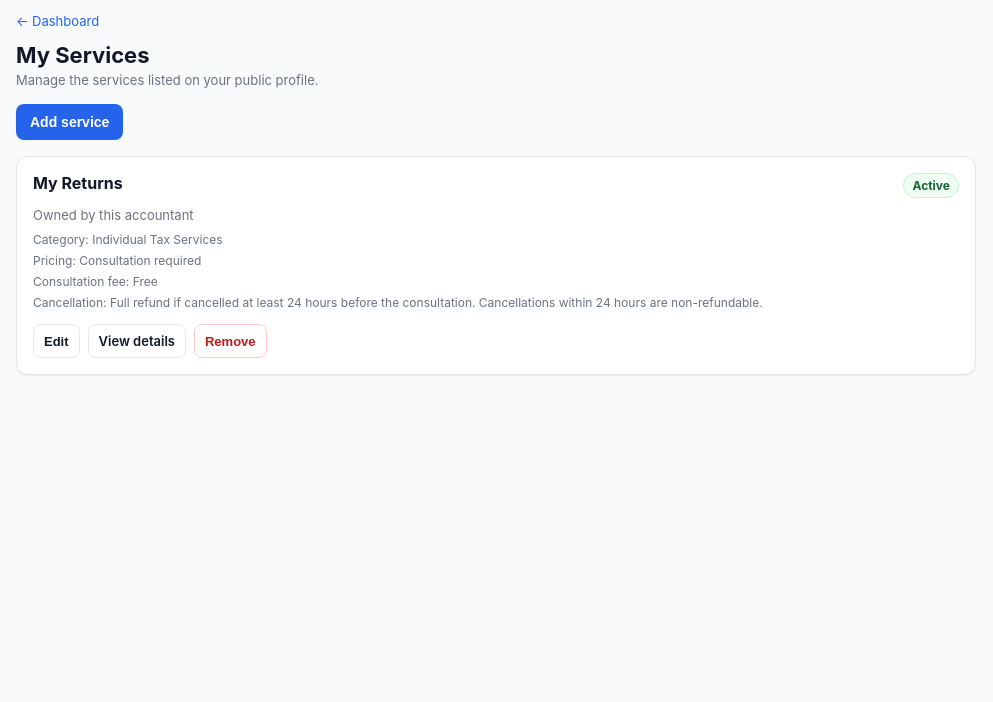
it: edit form preserves an existing valid category and sends category_id
This screenshot has width=993, height=702.
Expected: the text "My Returns" is shown, [33,173,123,198]
Click the button "Edit" at (56, 341), box [33,324,80,358]
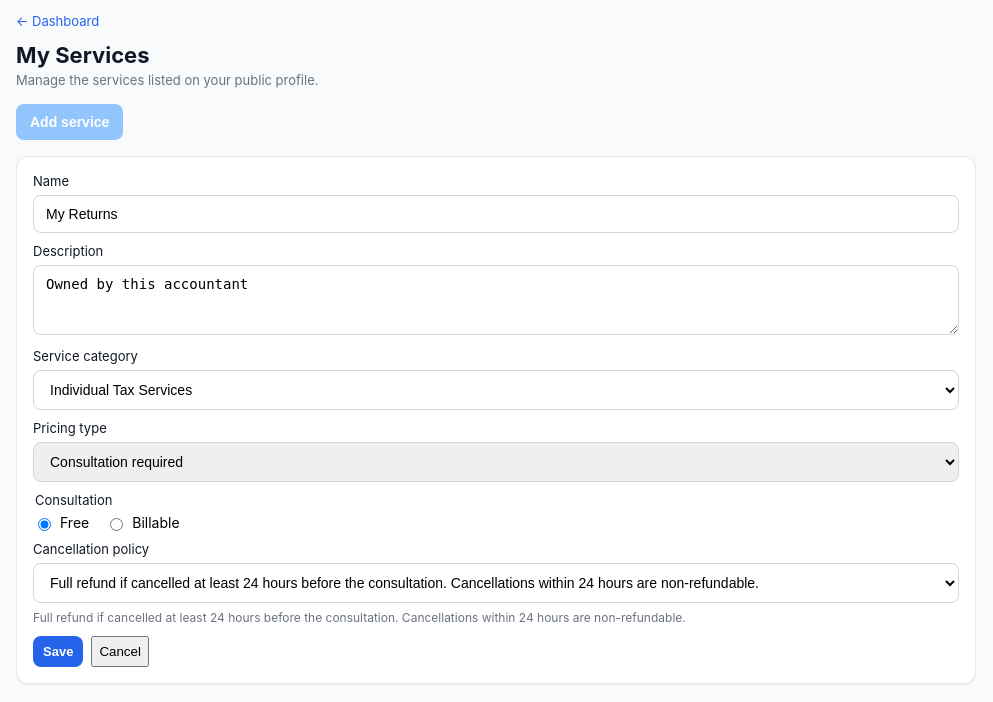
Now the dropdown labelled "Service category" is enabled, box [33,370,959,410]
Now the dropdown labelled "Service category" shows "Individual Tax Services", box [33,370,959,410]
Replace the text in the field showing "My Returns" with "Updated Returns" at (496, 214), box [33,195,959,233]
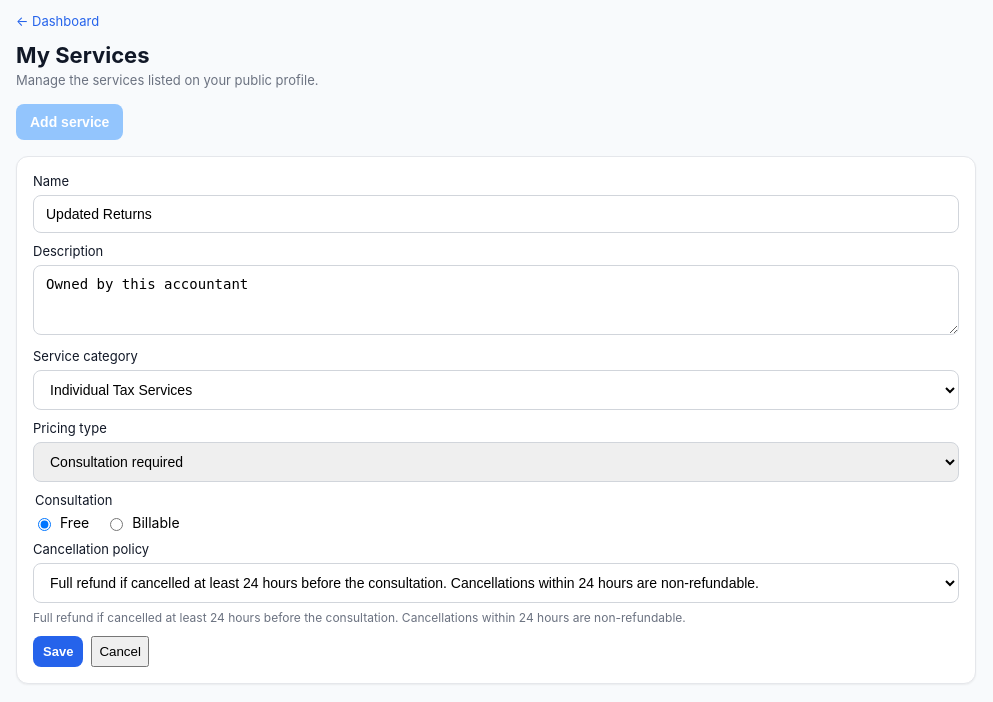
Replace the text in the text box showing "Owned by this accountant" with "Corrected description" at (496, 300), box [33,265,959,335]
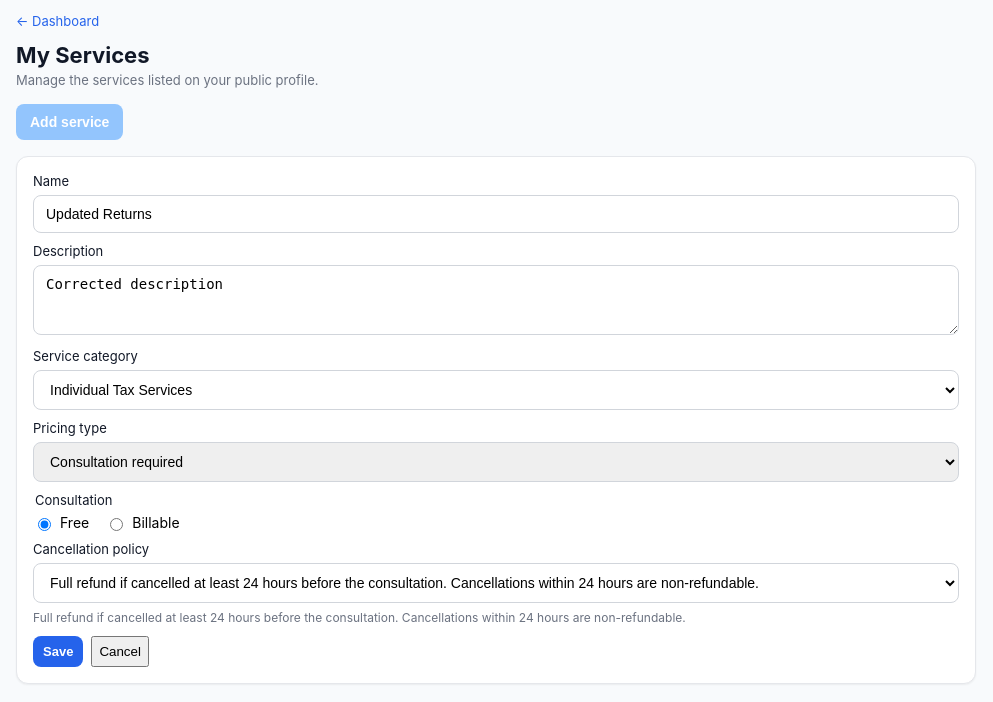
Click the button "Save" at (58, 652), box [33,636,83,667]
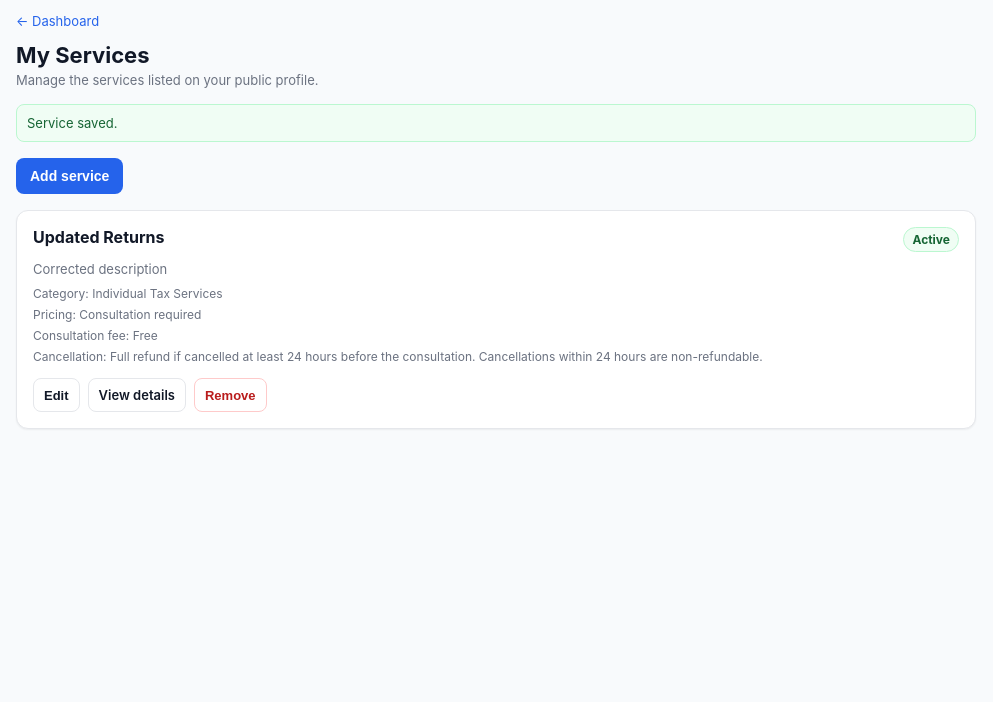
Now the text "Updated Returns" is shown, box [33,227,164,252]
Now the text "Service saved." is shown, box [16,104,976,142]
